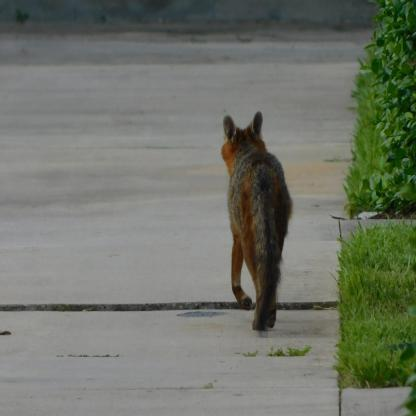zorro: (217, 107, 295, 336)
